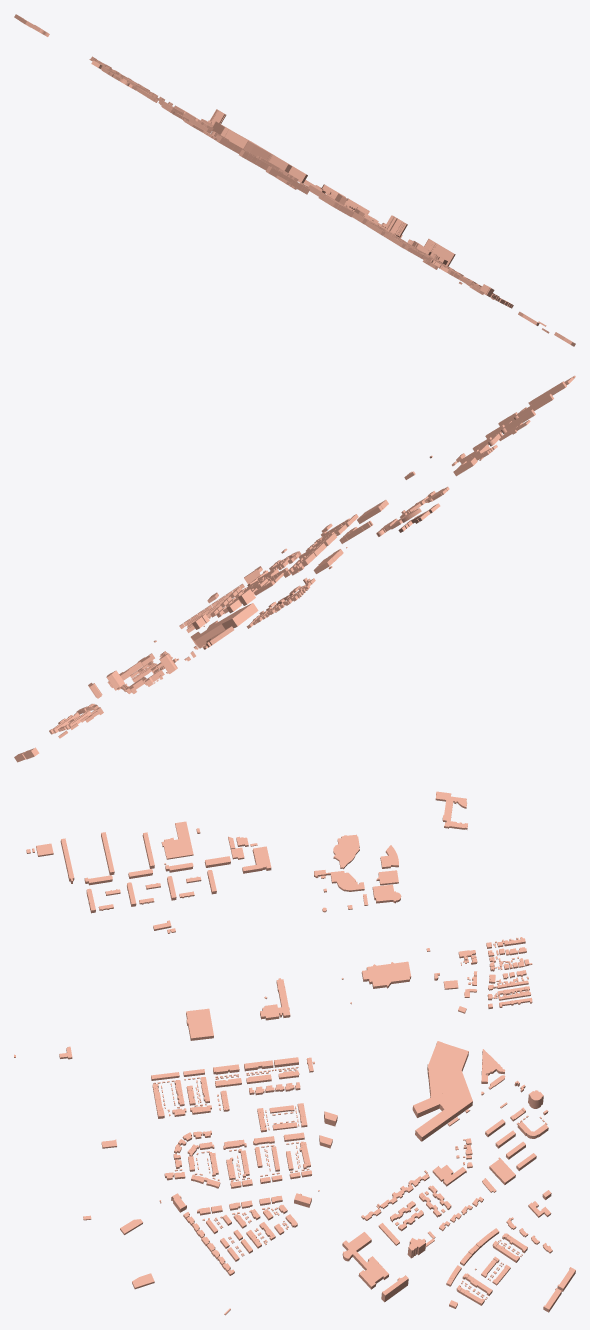
The picture shows the model from 3 angles, top to bottom: view 1: azimuth 30°, elevation 25°; view 2: azimuth 150°, elevation 25°; view 3: azimuth 270°, elevation 25°; orthographic projection. The views are drawn at different scales.
Size of the model in its own units: 1041 by 799 by 1234.
